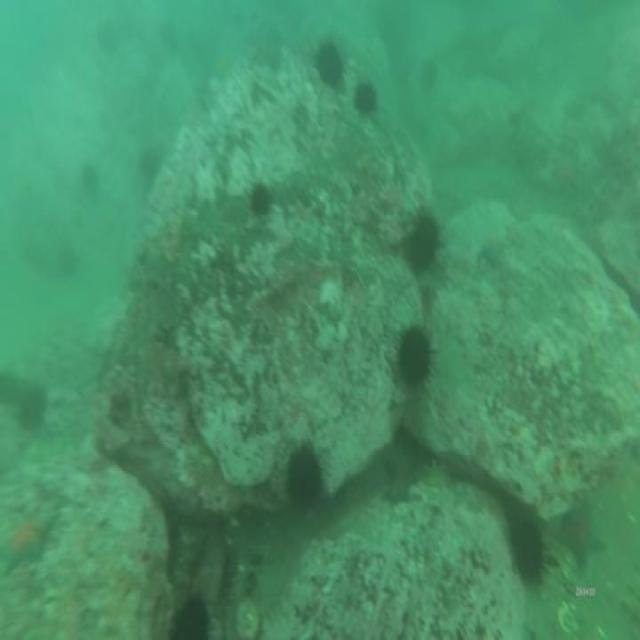echinus: (289, 450, 321, 508), (398, 330, 430, 387), (512, 521, 541, 580), (404, 218, 436, 269), (174, 602, 206, 640), (20, 389, 44, 430), (318, 46, 342, 87), (252, 184, 270, 214), (356, 80, 374, 110)
holothurian: (2, 514, 52, 567), (560, 509, 604, 569), (385, 474, 410, 506)
